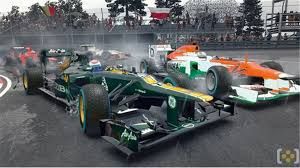FormulaOneCar: (20, 44, 240, 158), (136, 38, 300, 109)
